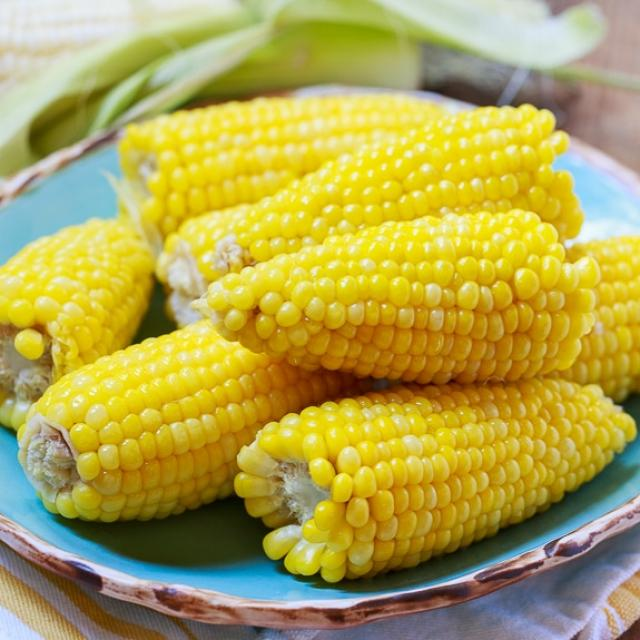corn: (274, 378, 630, 580), (216, 215, 602, 372), (47, 333, 247, 522), (350, 98, 575, 239), (125, 93, 348, 227), (0, 209, 162, 368)
